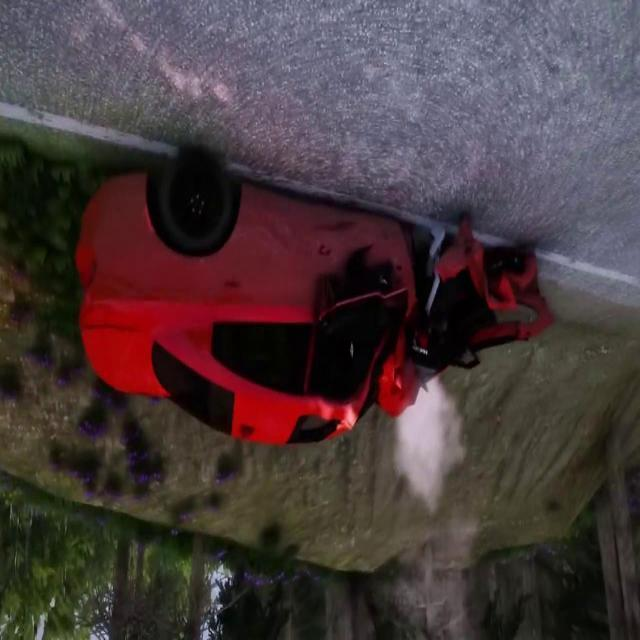vehicle: (70, 130, 554, 498)
